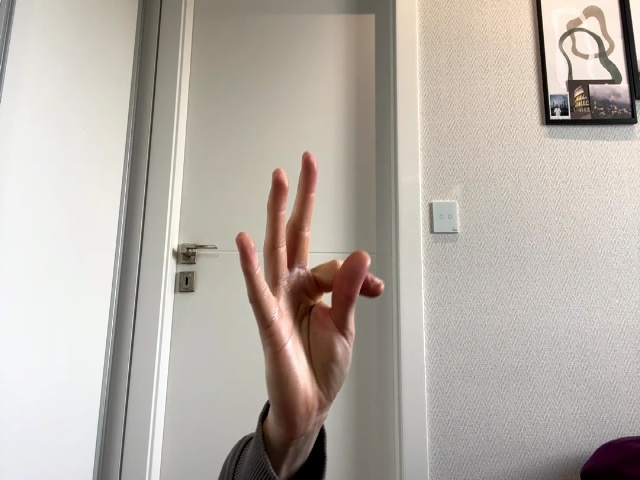T: (236, 151, 384, 420)
